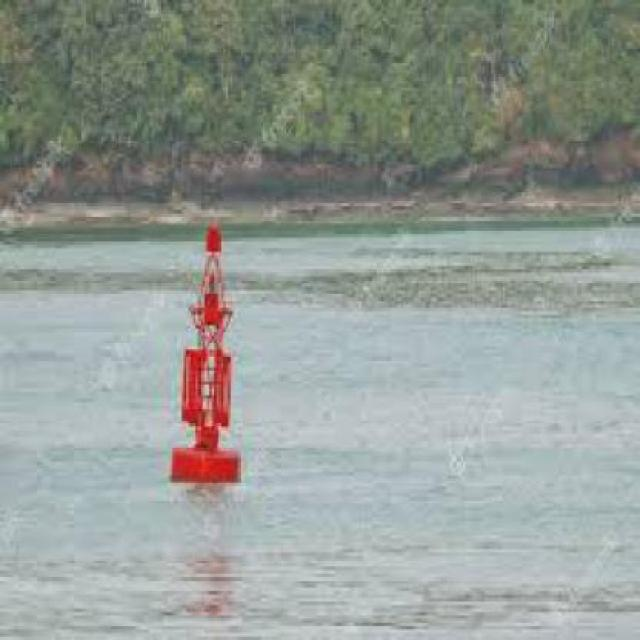buoy: (169, 207, 255, 495)
